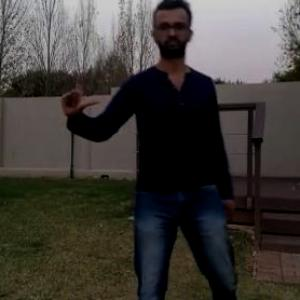land_hand: (58, 70, 102, 122)
